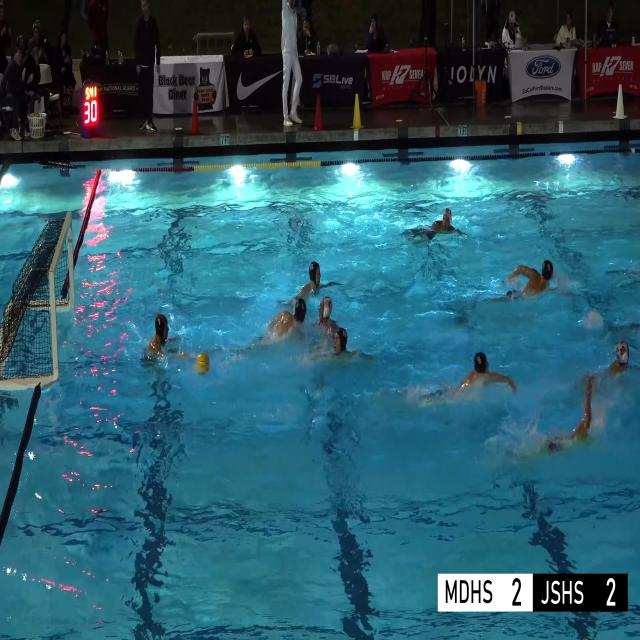ball: (195, 352, 210, 377), (32, 112, 40, 118)
